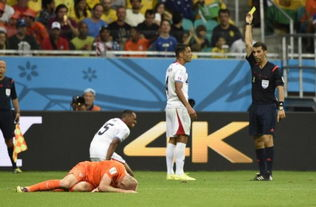10+: (1, 1, 293, 164)
down: (16, 157, 148, 200)
